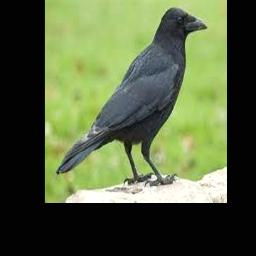Crow: (57, 7, 206, 186)
